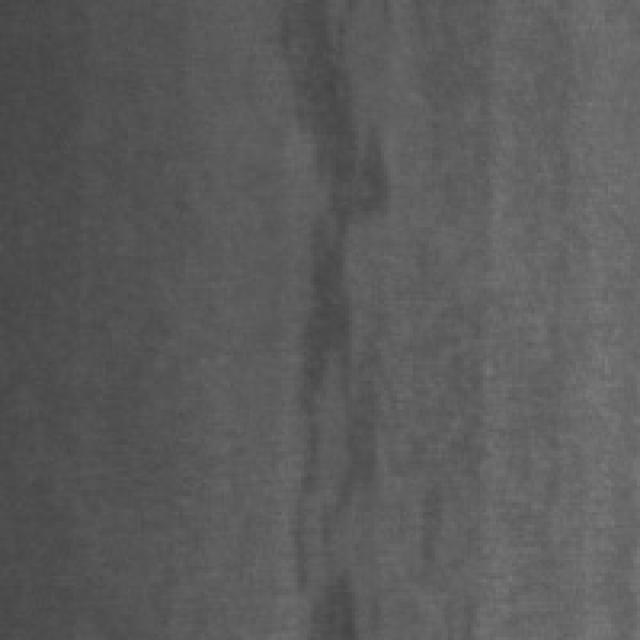inclusion: (256, 0, 394, 627)
